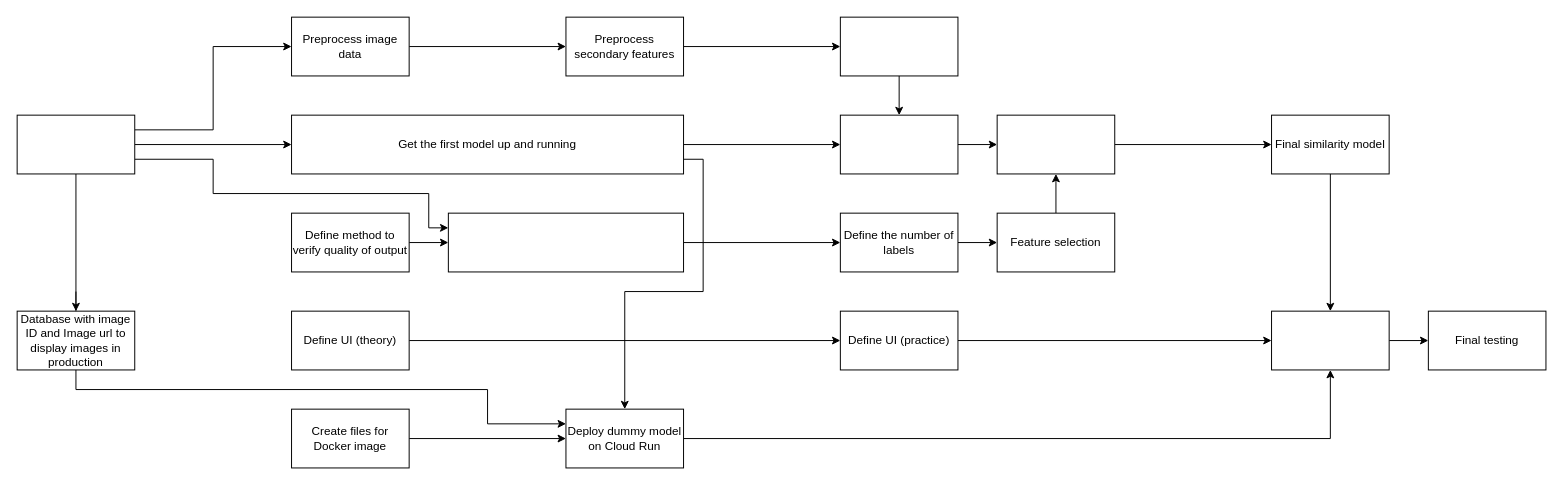
This 1563x485 diagram has some shape labels left out. Here are the shapes that lost their labels. From the top down, the centre of each, then its label:
At point 898,46: "Create preprocessing pipeline".
At point 75,144: "Build basic package and GitHub repo".
At point 898,144: "Integrate preprocessing pipeline".
At point 1055,144: "Integrate labels coming from object detection CNN".
At point 565,242: "Find the architecture".
At point 1330,340: "Connect UI Telegram bot to our model".
